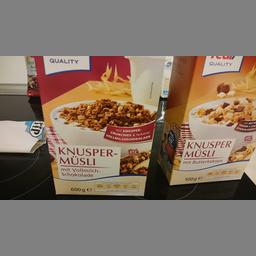cereal: (32, 54, 166, 194), (160, 57, 255, 185)
